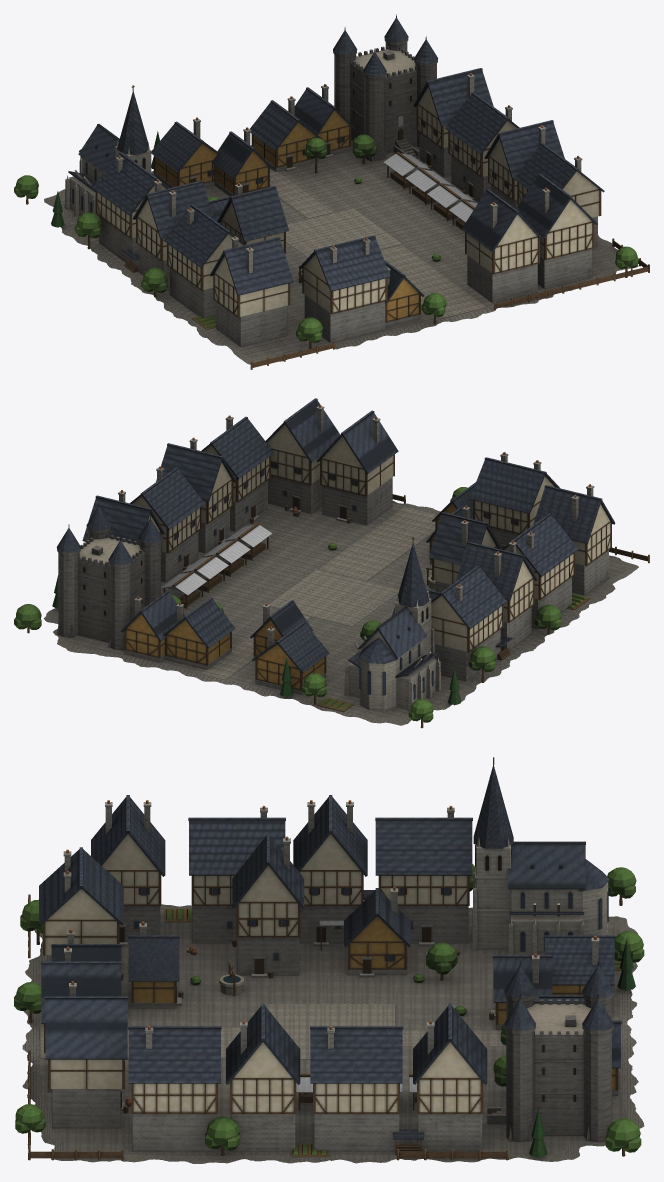
The model's file is kingdoms-town-medium-a-europe.glb.
The picture shows the model from 3 angles, top to bottom: view 1: azimuth 30°, elevation 25°; view 2: azimuth 150°, elevation 25°; view 3: azimuth 270°, elevation 25°; orthographic projection. The views are drawn at different scales.
Visible parts, largest first — view 1: LOD0; view 2: LOD0; view 3: LOD0.
Boxes of the visible parts, x1=… form: LOD0: x1=14, y1=14, x2=649, y2=369; LOD0: x1=14, y1=398, x2=649, y2=728; LOD0: x1=14, y1=757, x2=644, y2=1163.
Size of what is drawn, in the model's own units: 6.09 by 1.99 by 6.12.
3 materials, 3 textured.
